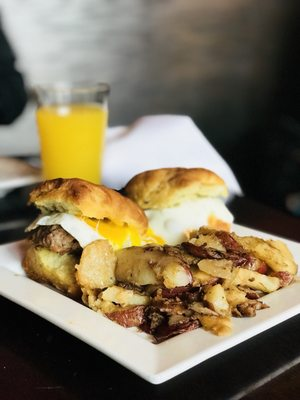pizza: (34, 81, 111, 186)
